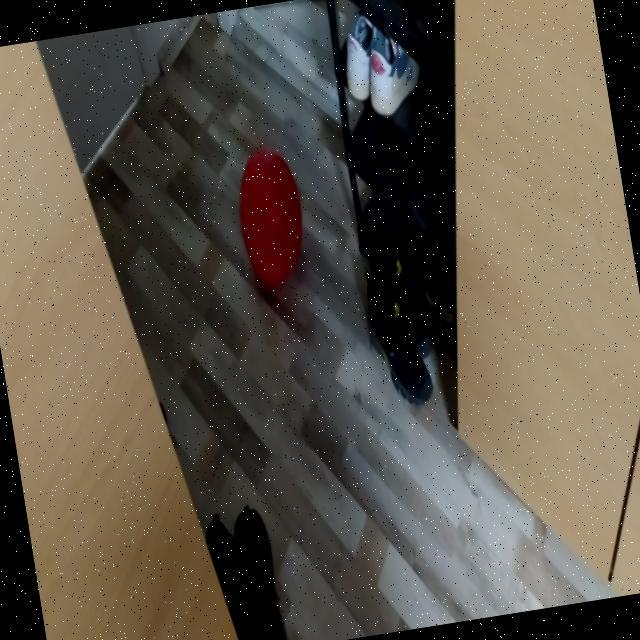balloon: (226, 132, 314, 292)
